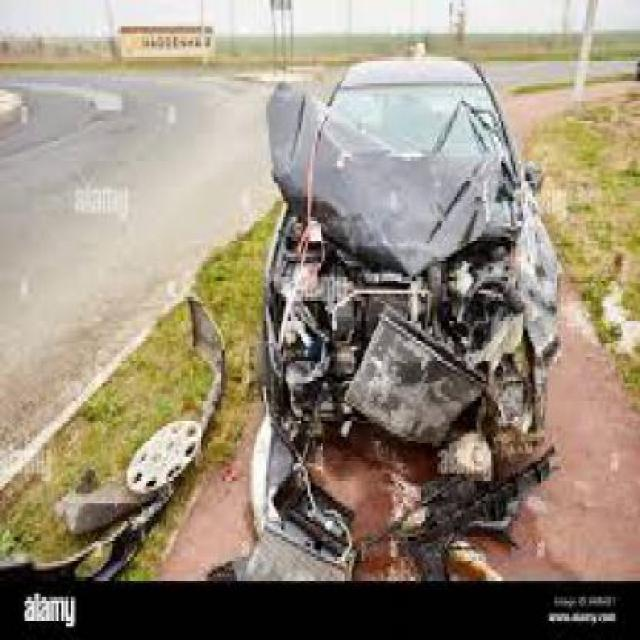damaged-hood: (266, 75, 514, 278)
